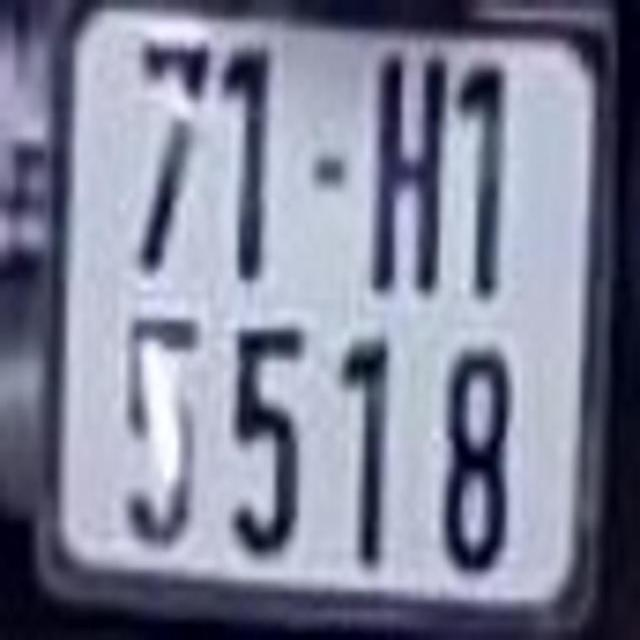1: (453, 60, 508, 294), (340, 334, 390, 566), (220, 42, 262, 281)
5: (128, 315, 199, 544), (235, 327, 301, 552)
7: (138, 39, 209, 283)
8: (446, 346, 512, 576)
H: (372, 45, 447, 292)
